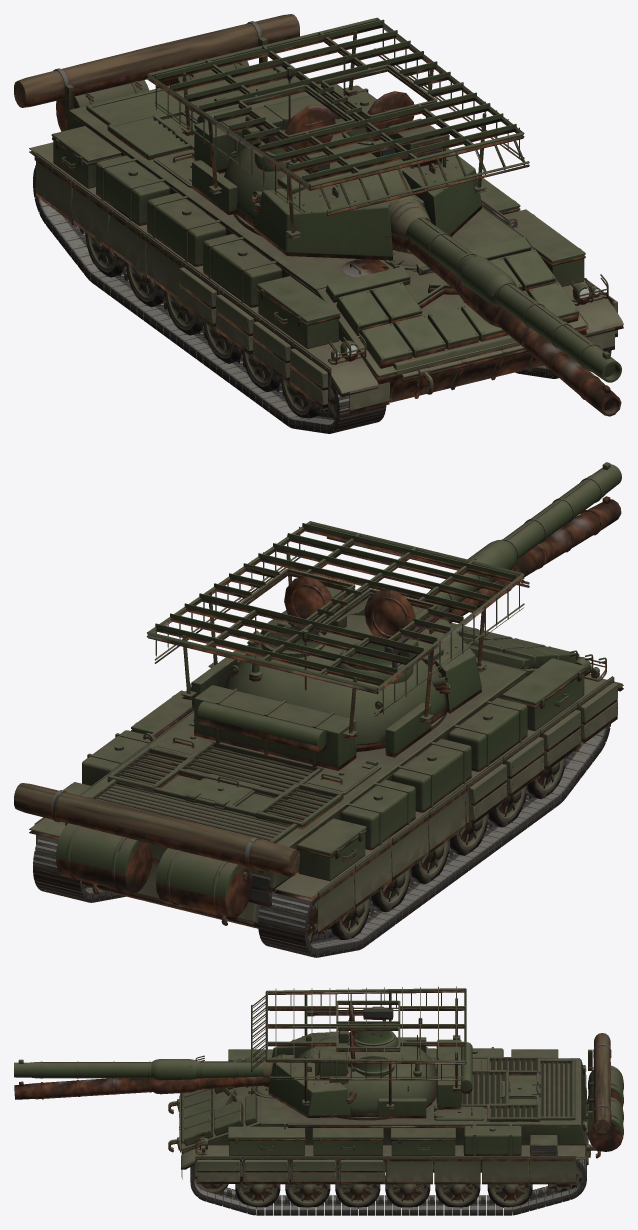
3 views of the same model, one above another, from view 1: azimuth 30°, elevation 25°; view 2: azimuth 150°, elevation 25°; view 3: azimuth 270°, elevation 25° (orthographic). The views are drawn at different scales.
Parts seen in each view (by area): view 1: hull_geo, turret_geo, turret_wreck, hull_wreck, cope_cage, gun_geo, track_R; view 2: hull_geo, hull_wreck, turret_geo, turret_wreck, cope_cage, track_R, gun_geo, track_L; view 3: hull_geo, turret_geo, hull_wreck, turret_wreck, cope_cage, gun_geo, track_L, roadwheel_L3_geo, roadwheel_L2_geo, roadwheel_L6_geo, roadwheel_L4_geo, roadwheel_L1_geo (+3 smaller).
Part boxes in pixels (x1=…): hull_geo: x1=14, y1=14, x2=623, y2=410; turret_geo: x1=192, y1=56, x2=481, y2=256; turret_wreck: x1=147, y1=21, x2=621, y2=416; hull_wreck: x1=14, y1=31, x2=623, y2=433; cope_cage: x1=147, y1=17, x2=529, y2=236; gun_geo: x1=385, y1=196, x2=621, y2=382; track_R: x1=33, y1=165, x2=383, y2=430; hull_geo: x1=14, y1=623, x2=623, y2=931; hull_wreck: x1=14, y1=644, x2=623, y2=957; turret_geo: x1=192, y1=584, x2=481, y2=767; turret_wreck: x1=147, y1=496, x2=621, y2=770; cope_cage: x1=147, y1=521, x2=529, y2=736; track_R: x1=258, y1=725, x2=610, y2=954; gun_geo: x1=412, y1=462, x2=621, y2=614; track_L: x1=33, y1=836, x2=117, y2=899; hull_geo: x1=168, y1=1033, x2=623, y2=1182; turret_geo: x1=268, y1=1006, x2=472, y2=1115; hull_wreck: x1=168, y1=1052, x2=623, y2=1215; turret_wreck: x1=14, y1=990, x2=472, y2=1118; cope_cage: x1=251, y1=986, x2=466, y2=1107; gun_geo: x1=14, y1=1054, x2=284, y2=1080; track_L: x1=190, y1=1156, x2=586, y2=1213; roadwheel_L3_geo: x1=335, y1=1168, x2=380, y2=1205; roadwheel_L2_geo: x1=285, y1=1165, x2=330, y2=1205; roadwheel_L6_geo: x1=487, y1=1167, x2=532, y2=1205; roadwheel_L4_geo: x1=385, y1=1173, x2=430, y2=1205; roadwheel_L1_geo: x1=235, y1=1166, x2=280, y2=1205.
Size of what is drawn, in the model's own units: 3.67 by 2.9 by 10.13.
Materials: 6 (4 with a texture image).
